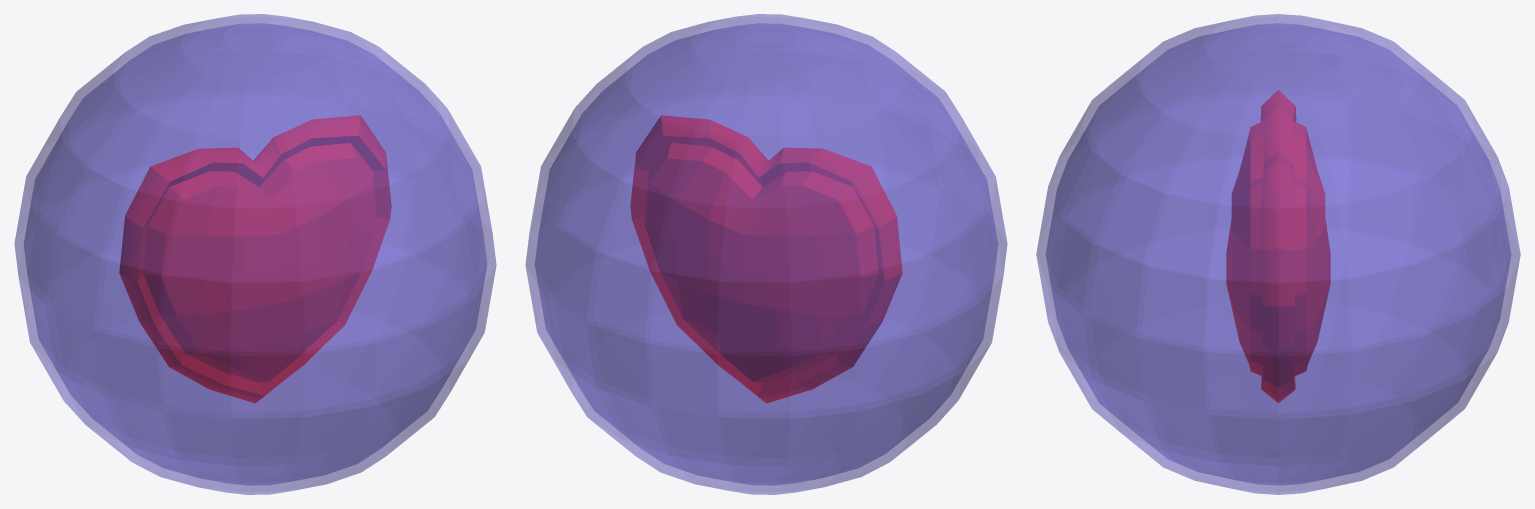
Rendered from health_pickup.glb.
3 renders of one model, left to right at view 1: azimuth 30°, elevation 25°; view 2: azimuth 150°, elevation 25°; view 3: azimuth 270°, elevation 25°, orthographic.
Visible parts, largest first — view 1: H_bubble, H_Heart; view 2: H_bubble, H_Heart; view 3: H_bubble, H_Heart.
Boxes of the visible parts, x1,y1,x2,y2 form: H_bubble: [14, 14, 496, 494]; H_Heart: [119, 115, 391, 403]; H_bubble: [525, 14, 1007, 494]; H_Heart: [630, 115, 902, 403]; H_bubble: [1036, 14, 1520, 494]; H_Heart: [1226, 90, 1330, 402].
Size of the model in its own units: 3.15 by 3.14 by 3.15.
